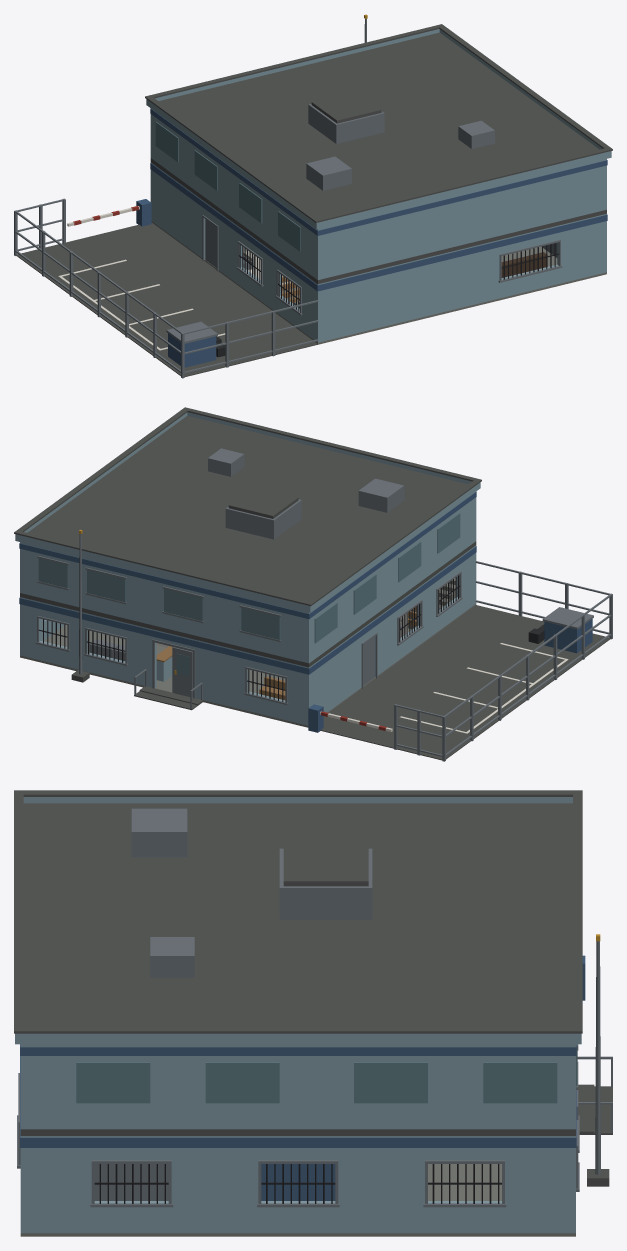
Rendered from police.glb.
The picture shows the model from 3 angles, top to bottom: view 1: azimuth 30°, elevation 25°; view 2: azimuth 150°, elevation 25°; view 3: azimuth 270°, elevation 25°; orthographic projection. The views are drawn at different scales.
Visible parts, largest first — view 1: police; view 2: police; view 3: police.
Part boxes in pixels (<box>): police: <box>14,14,612,378</box>; police: <box>14,407,612,761</box>; police: <box>14,790,612,1236</box>.
Size of what is drawn, in the model's own units: 22.26 by 7.35 by 16.18.
Materials: 2 (2 with a texture image).
